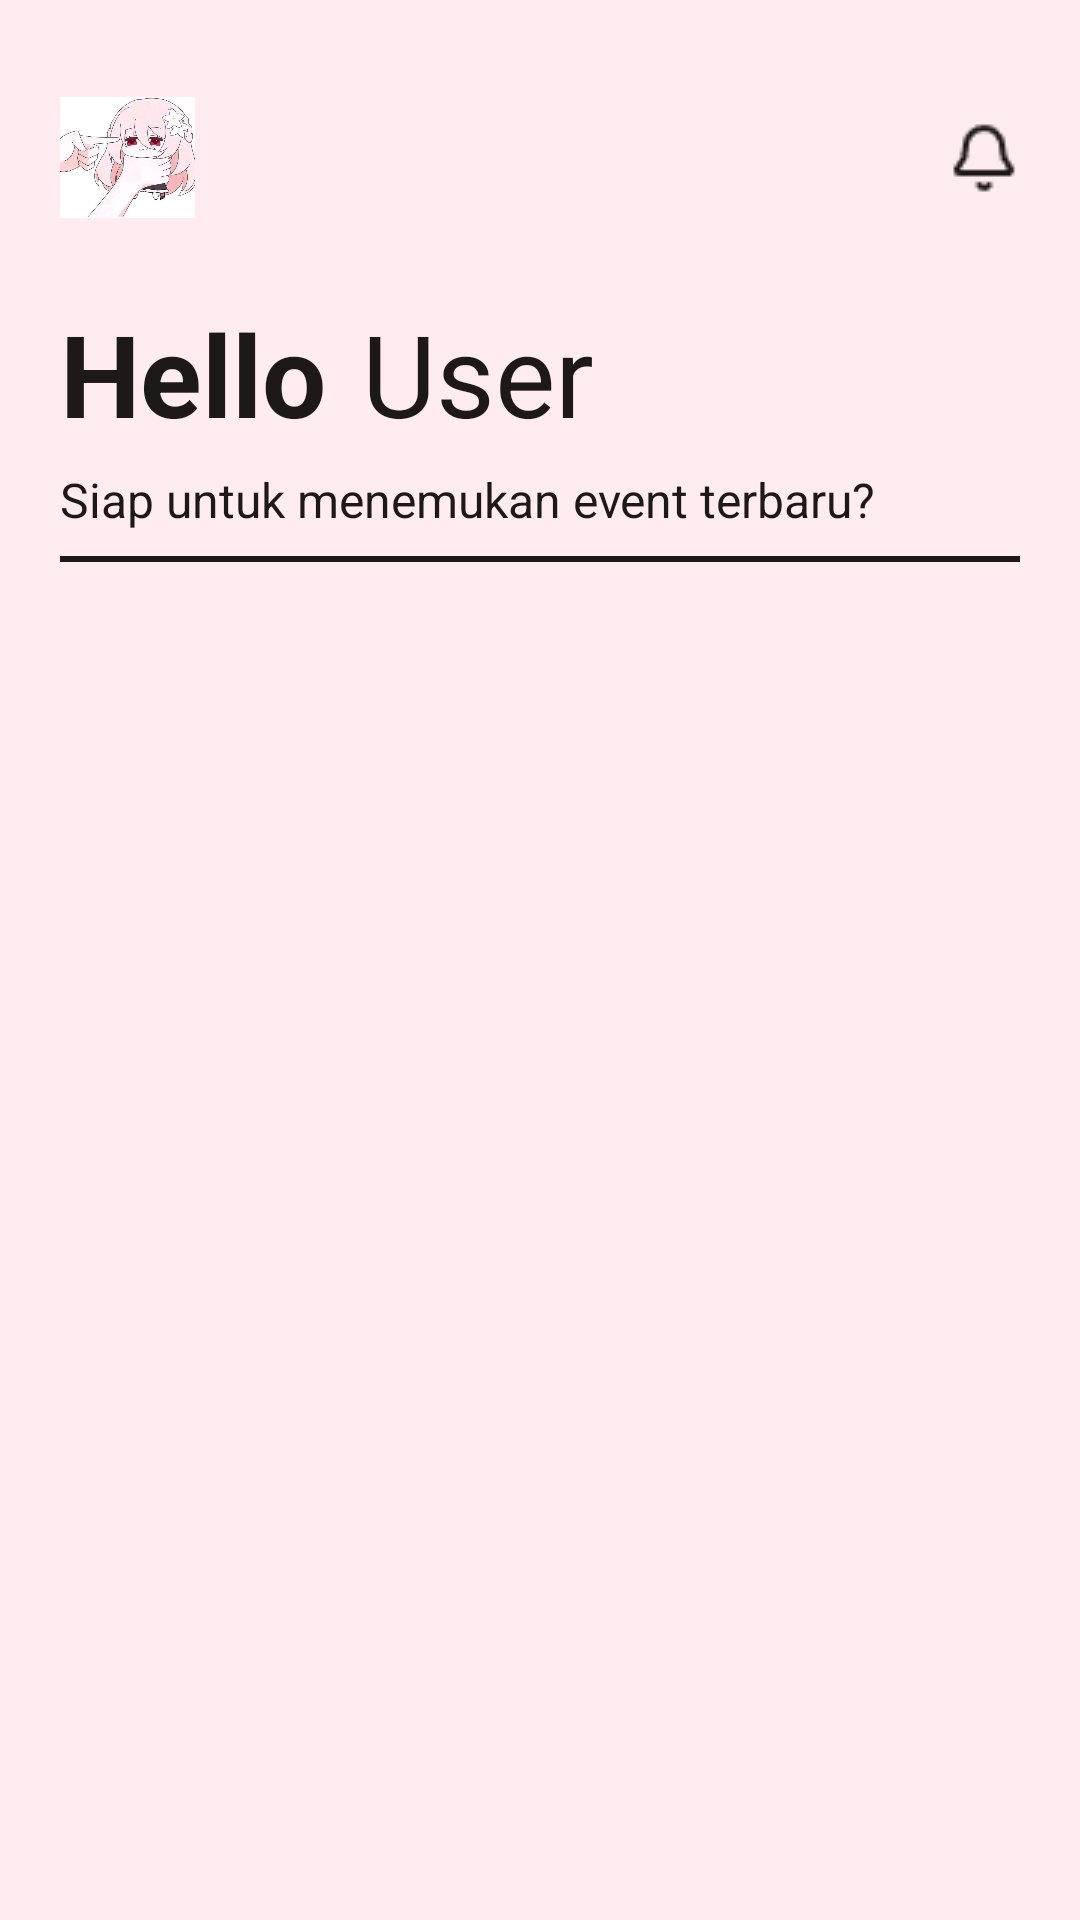

Screen size 1080px x 1920px. Icon name, then its box in pixels as (x1, y1, x2, y2):
bell: (953, 124, 1015, 192)
